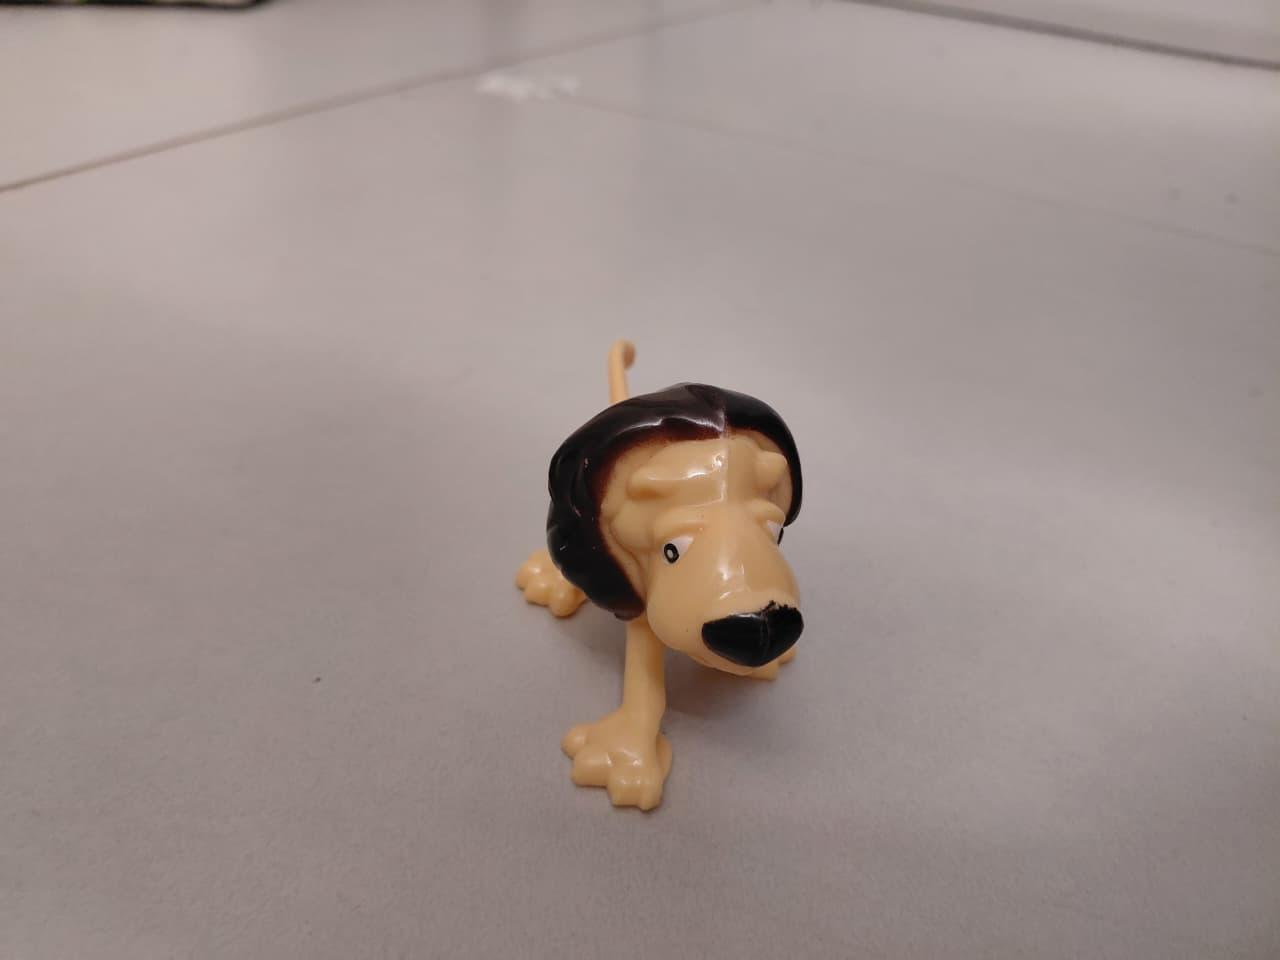lion: (472, 339, 879, 828)
